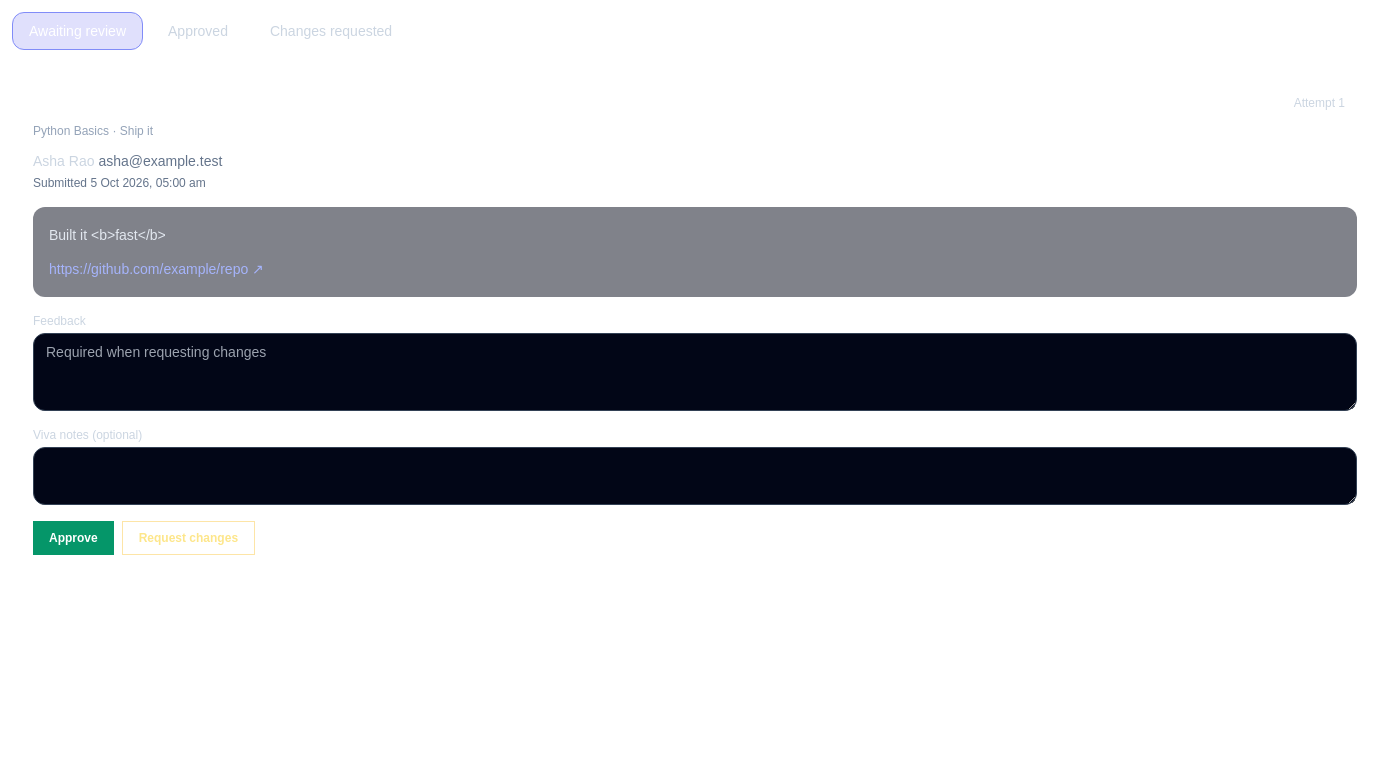
ProjectReviewQueue › lets a trainer approve an intermediate milestone, sending feedback and viva notes
Type "  Solid  " into the text box named "feedback for asha rao".
click(695, 372); type("  Solid  ")  # box [33,333,1357,411]
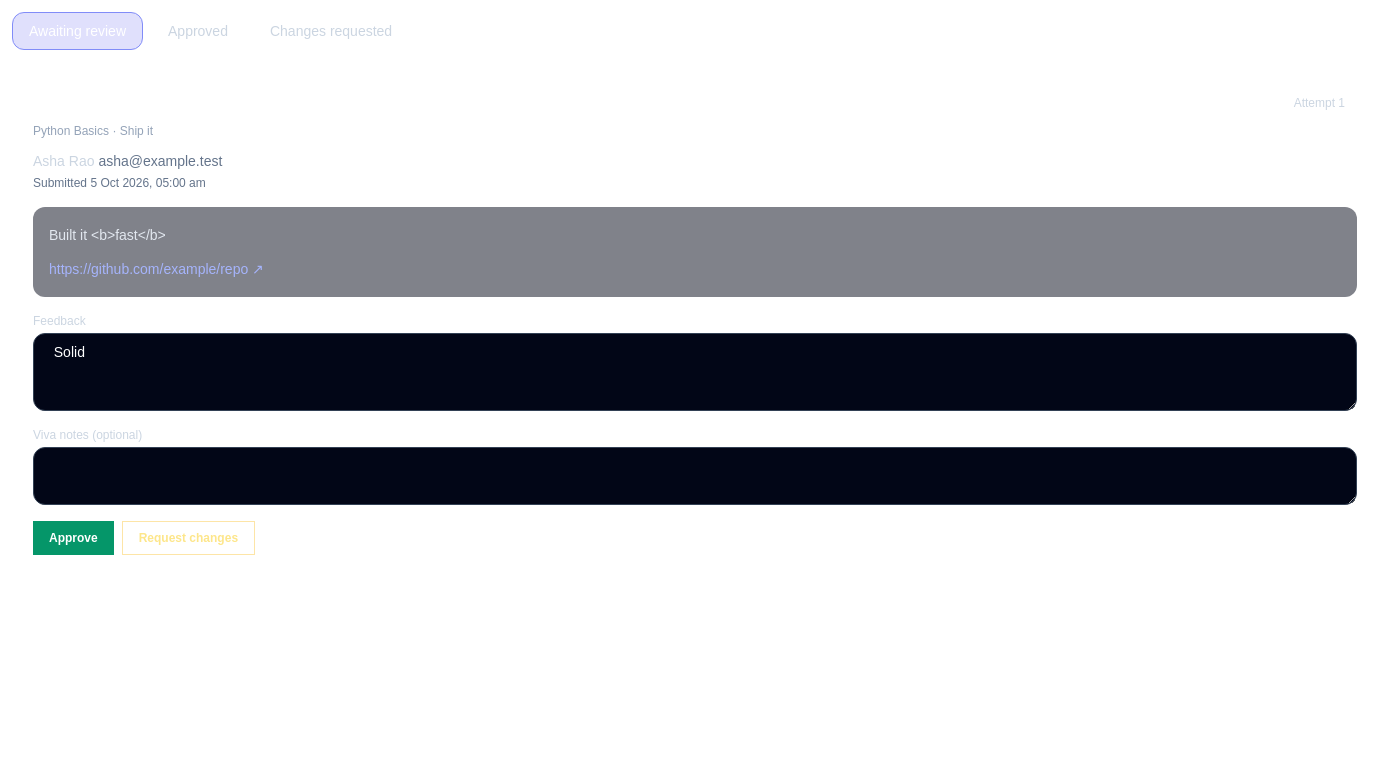
Type "  Explained well  " into the text box named "viva notes for asha rao".
click(695, 476); type("  Explained well  ")  # box [33,447,1357,505]
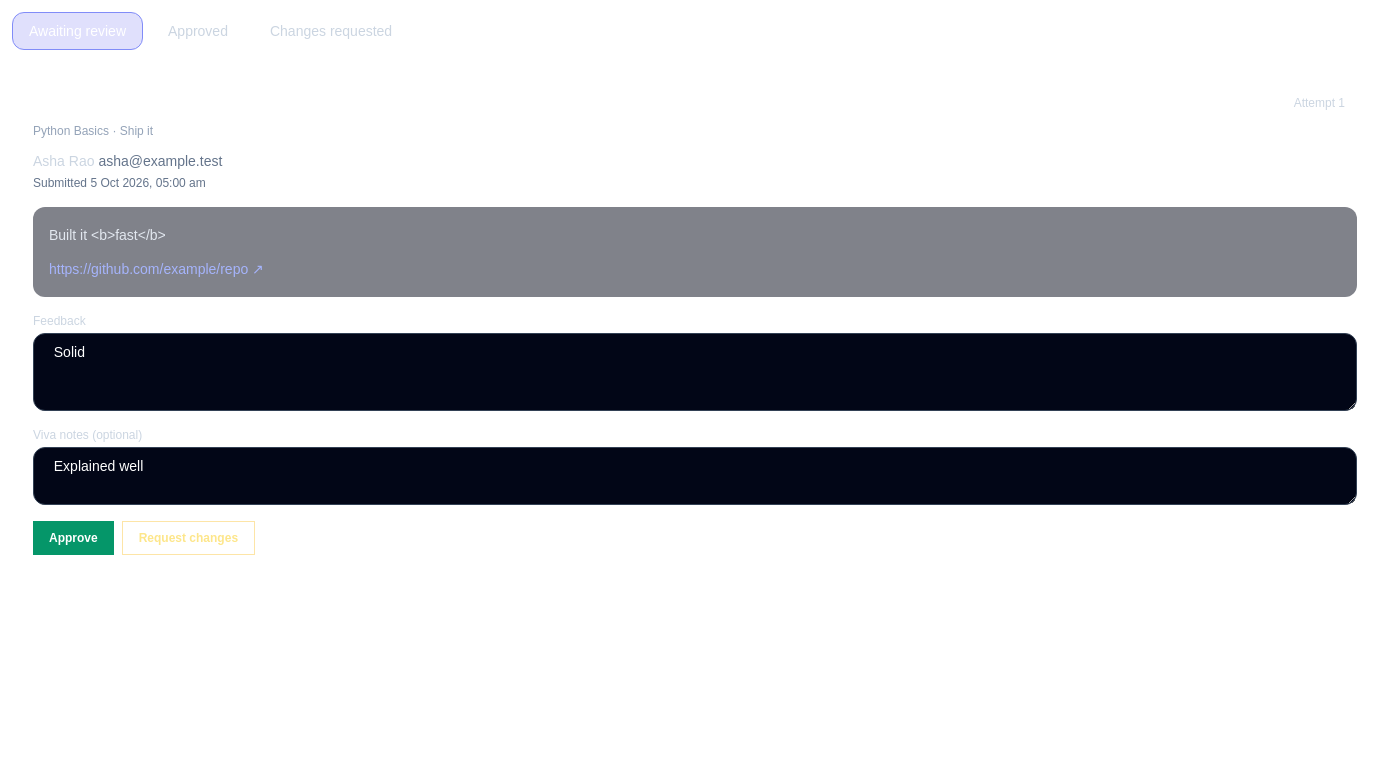
Click the button "approve ".
click(73, 538)  # box [33,521,114,555]
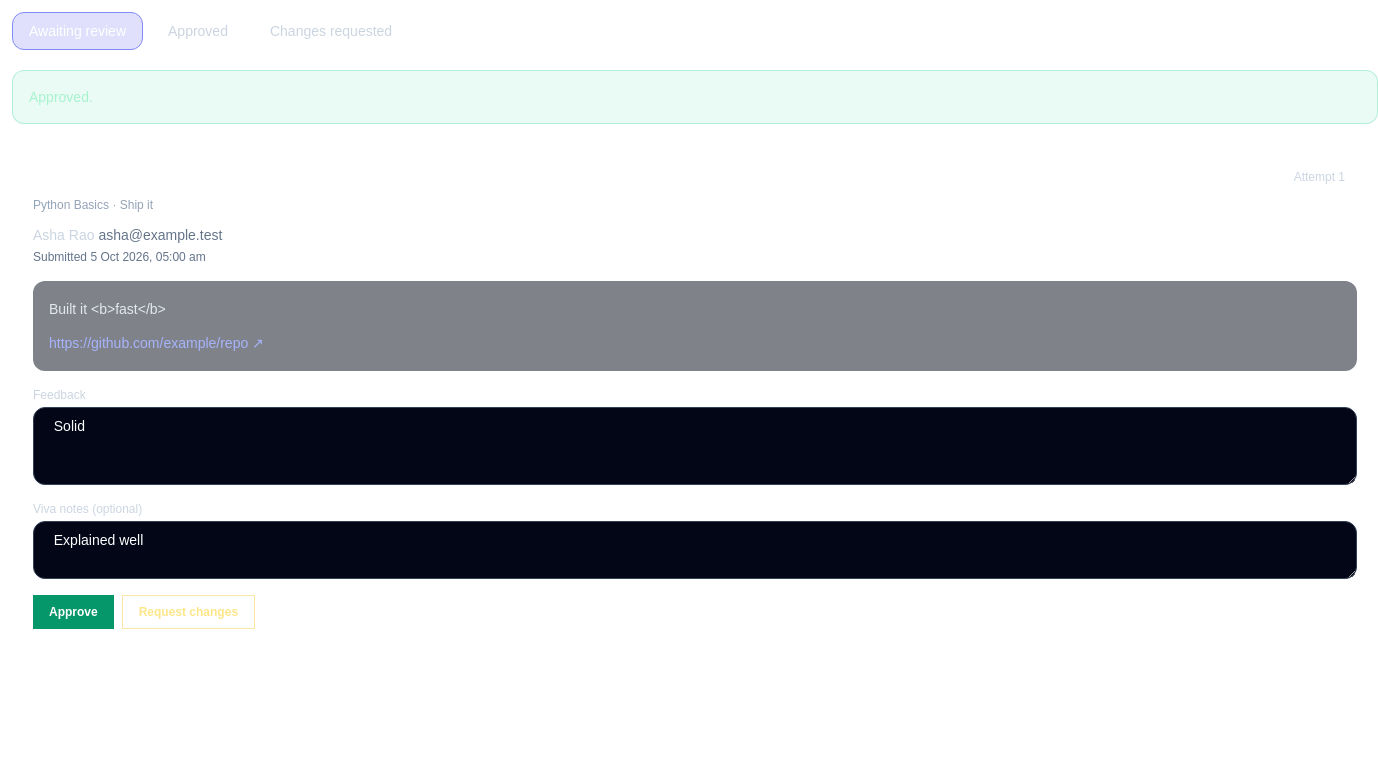
Expected: the text "Approved." is shown, [12,70,1377,124]
